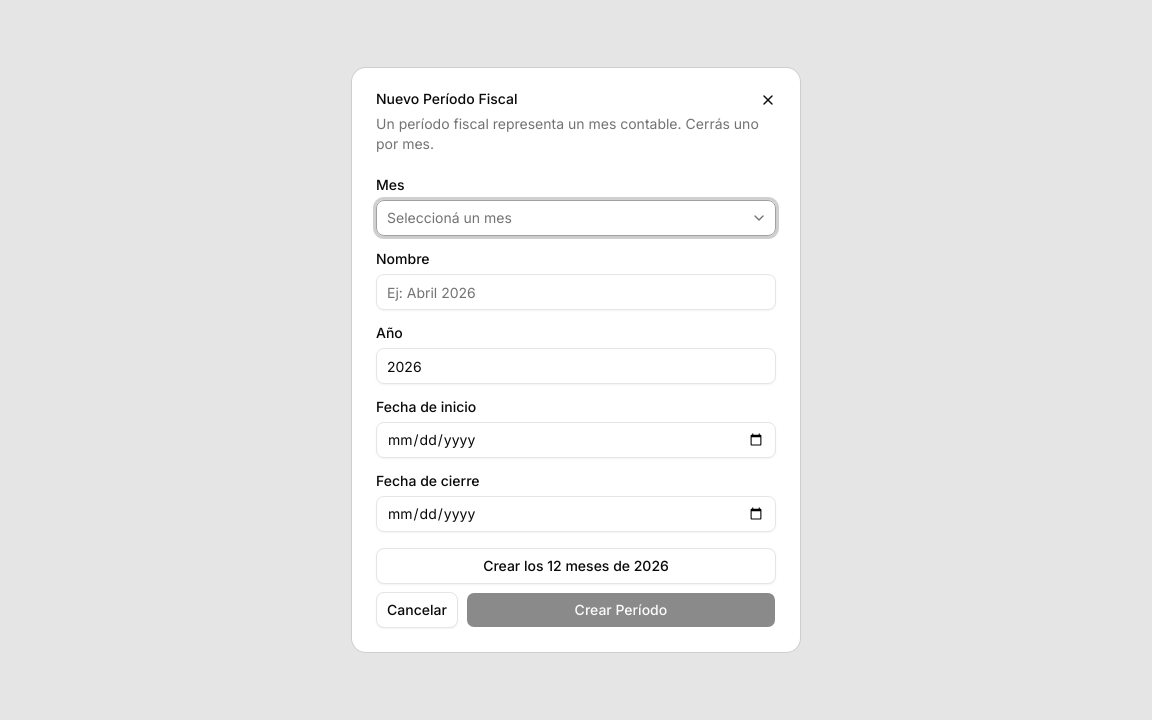
Test: UX-T03 — Selección de mes autocompleta nombre (REQ-2) › seleccionar Enero con year=2025 autocompleta name='Enero 2025'
Replace the text in the number field labelled "Año" with "2025" at (576, 366), box x1=376 y1=348 x2=776 y2=384
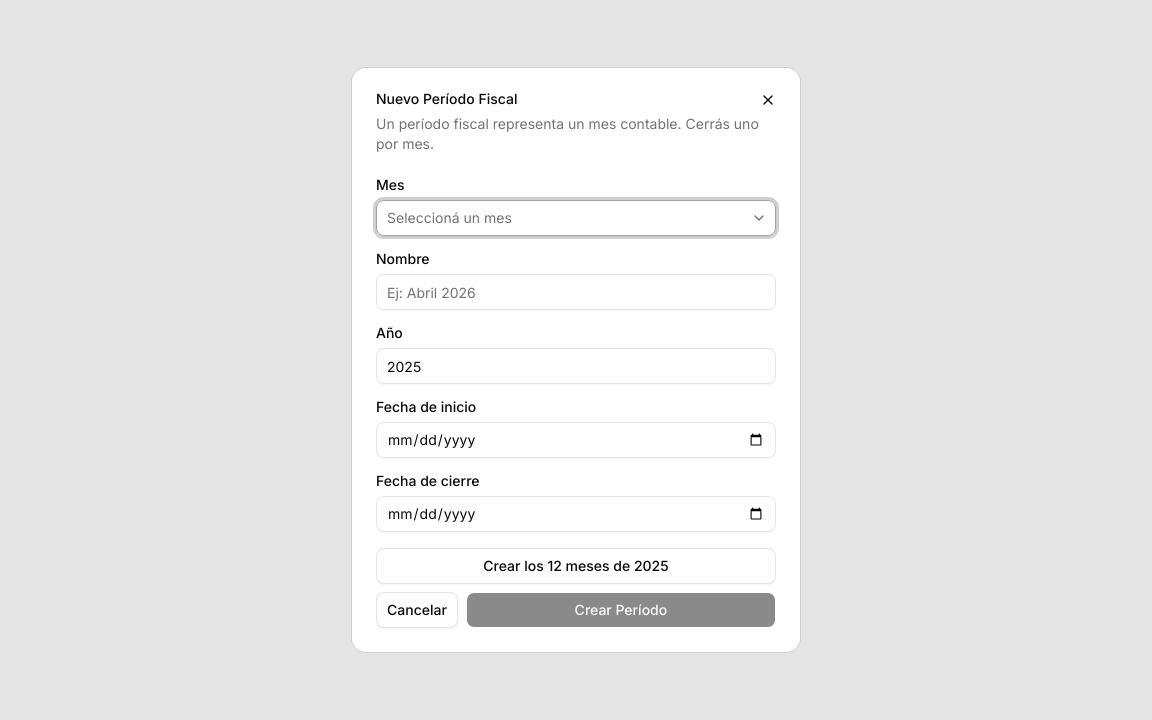
Click the dropdown at (449, 218), box x1=376 y1=200 x2=776 y2=236
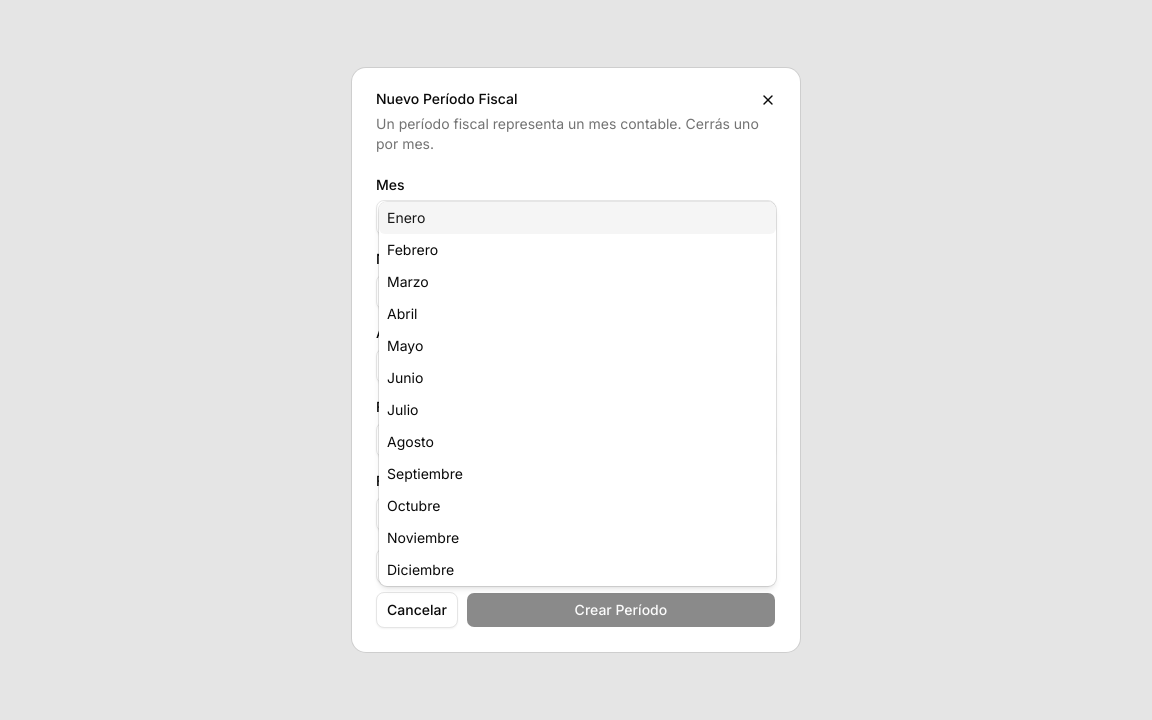
Click the option "Enero" at (406, 218), box x1=379 y1=202 x2=776 y2=234
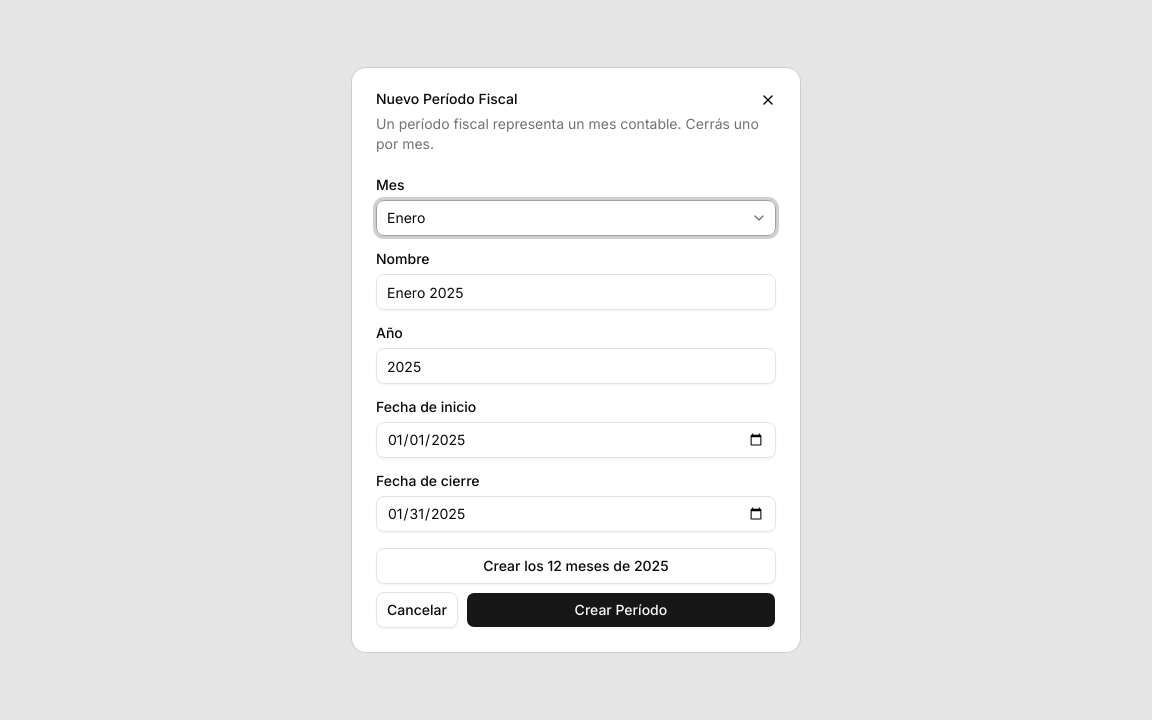
Expected: the field labelled "Nombre" holds "Enero 2025", x1=376 y1=274 x2=776 y2=310
